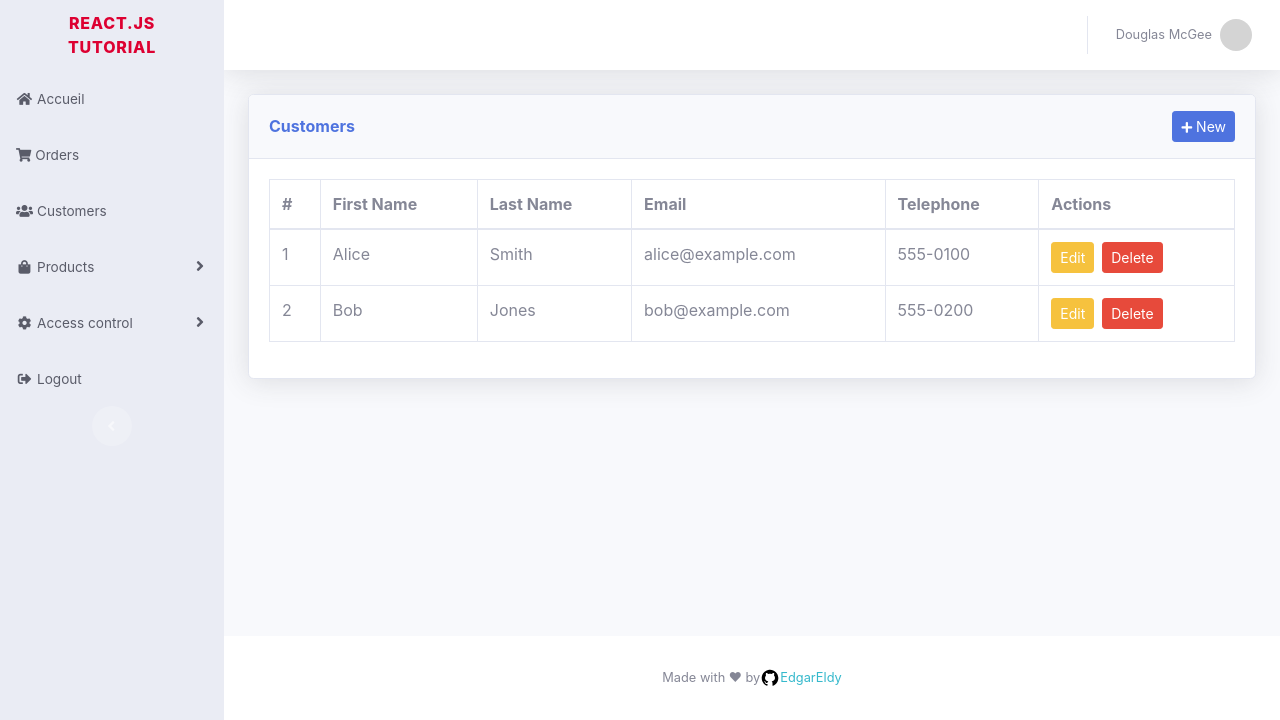
Test: Customers CRUD › updates a customer
The image size is (1280, 720).
Click the button "Edit" in the row of "Smith". click: (1073,258)
box: 1051,242 -> 1094,273
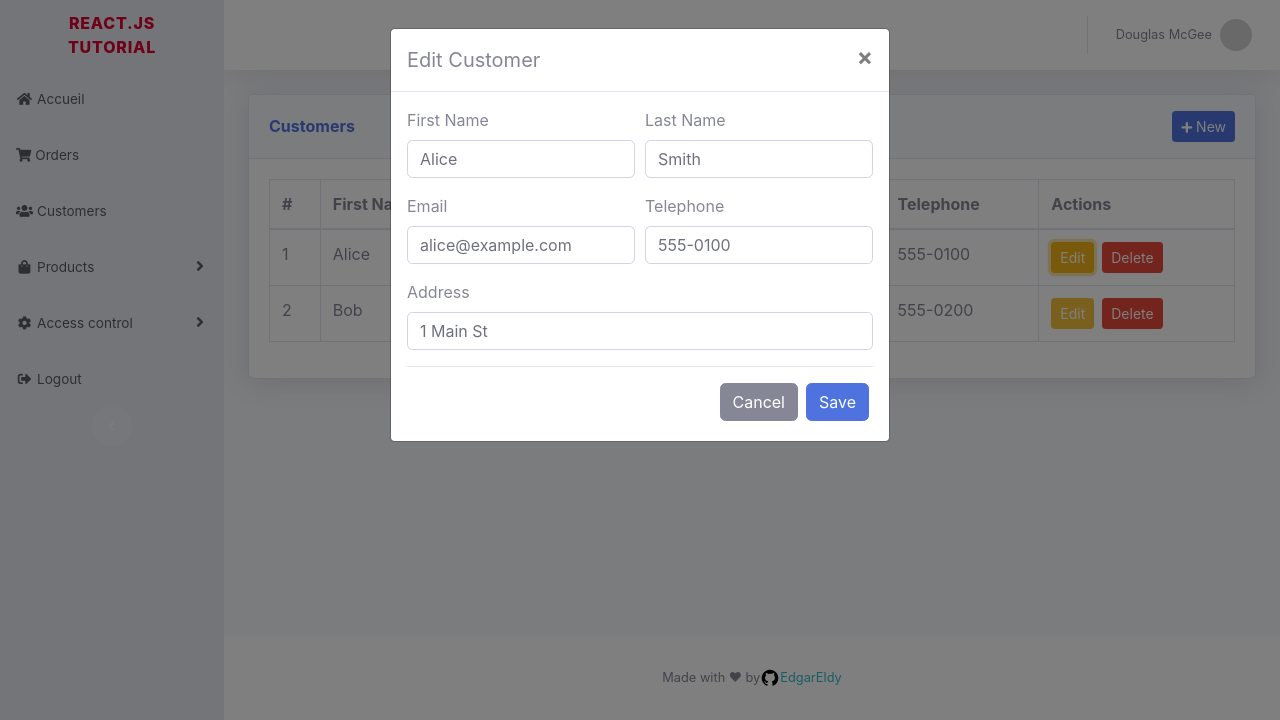
Replace the text in the field with id "firstName" with "Alicia". click: (521,159)
box: 407,140 -> 635,178
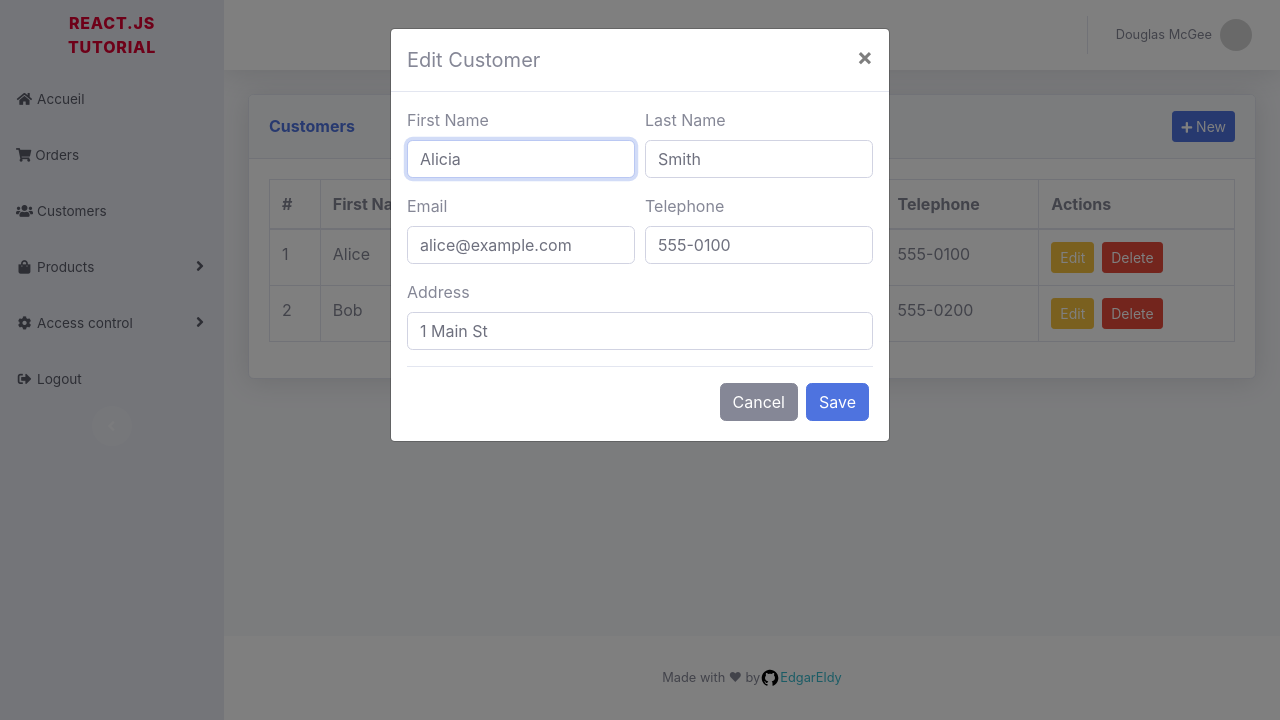
Replace the text in the field with id "telephone" with "555-9999". click: (759,245)
box: 645,226 -> 873,264
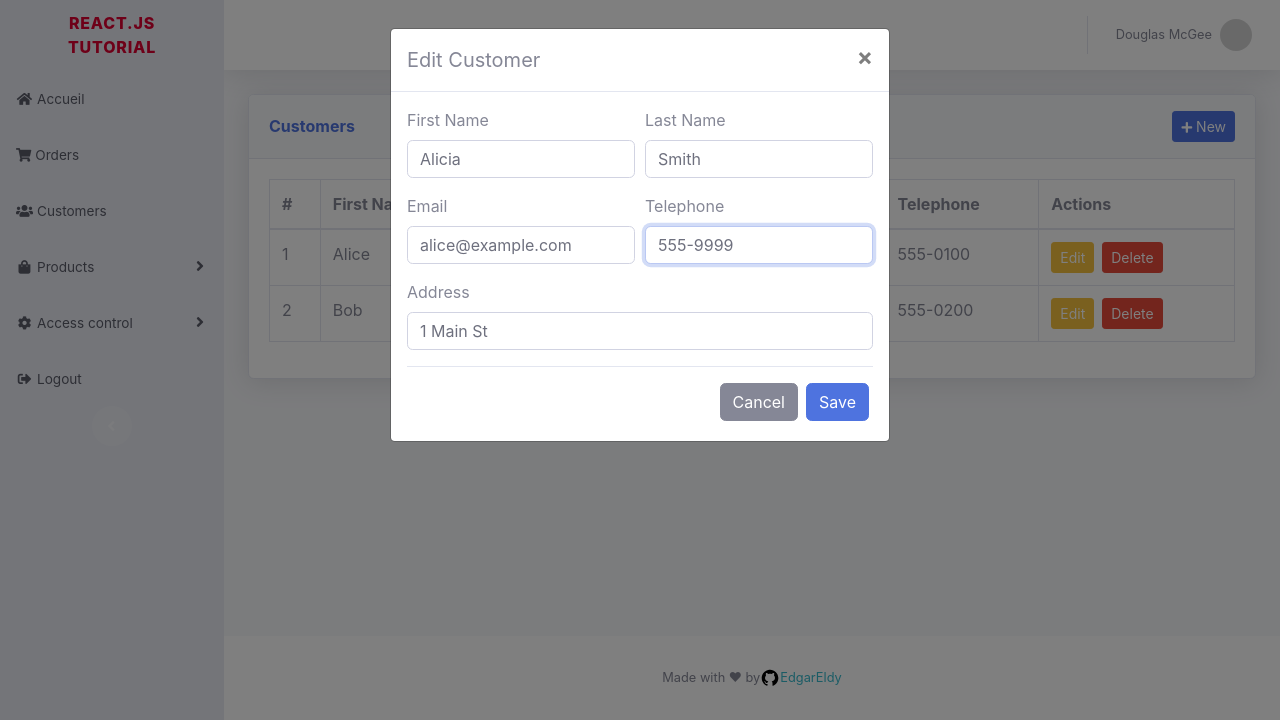
Click the button "Save". click: (838,402)
box: 806,383 -> 869,421
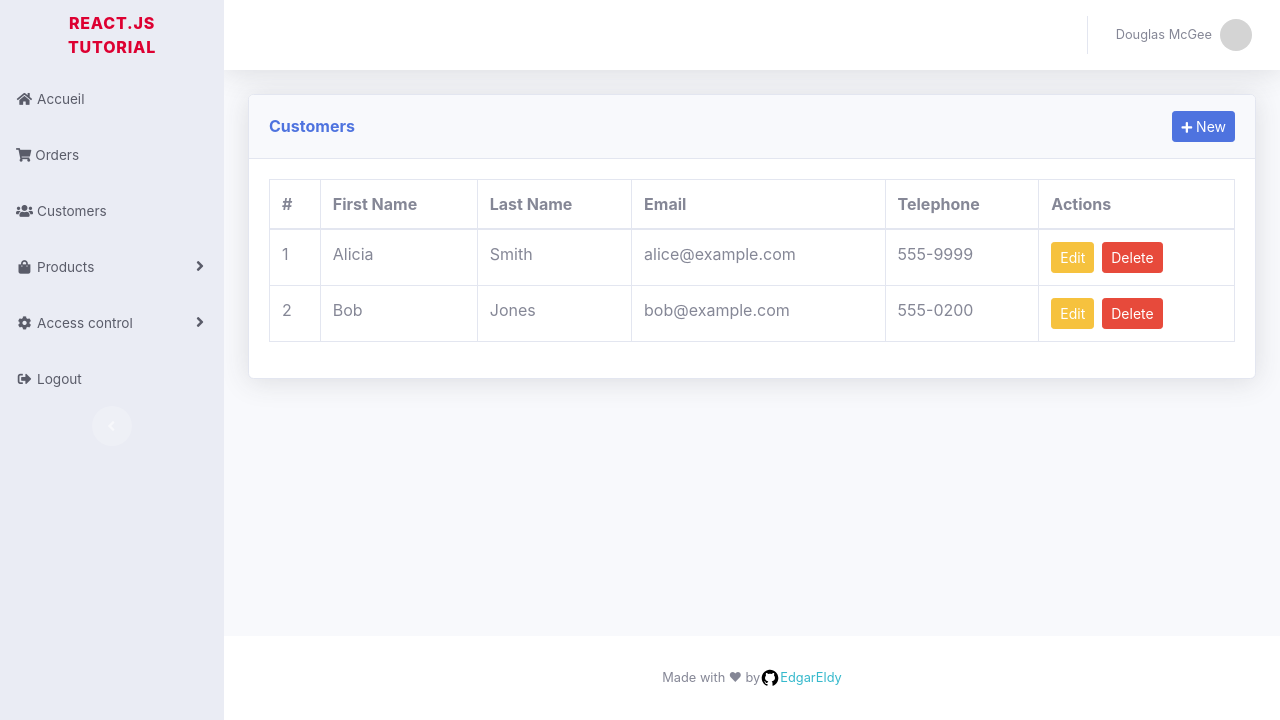
Expected: the text "Alicia" is shown, 320,229 -> 477,286
